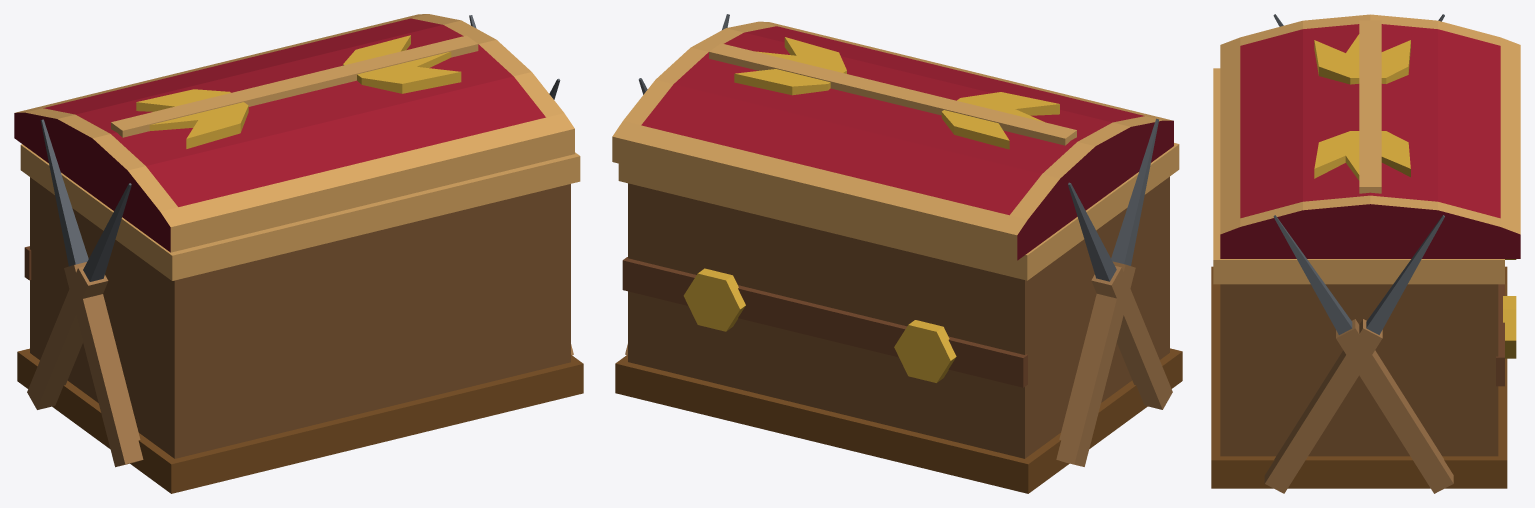
Rendered from PR_ArmoryChest_C.fbx.
3 views of the same model, side by side, from view 1: azimuth 30°, elevation 25°; view 2: azimuth 150°, elevation 25°; view 3: azimuth 270°, elevation 25° (orthographic). The views are drawn at different scales.
Parts seen in each view (by area): view 1: Body, Lid; view 2: Body, Lid; view 3: Body, Lid.
Boxes of the visible parts, left/top/right/bottom form: Body: left=17, top=15, right=583, bottom=493; Lid: left=14, top=14, right=574, bottom=252; Body: left=615, top=14, right=1182, bottom=493; Lid: left=612, top=21, right=1173, bottom=260; Body: left=1211, top=14, right=1516, bottom=493; Lid: left=1220, top=14, right=1520, bottom=258.
Bounding box in the file's own units: 1.11 × 0.69 × 0.769.
